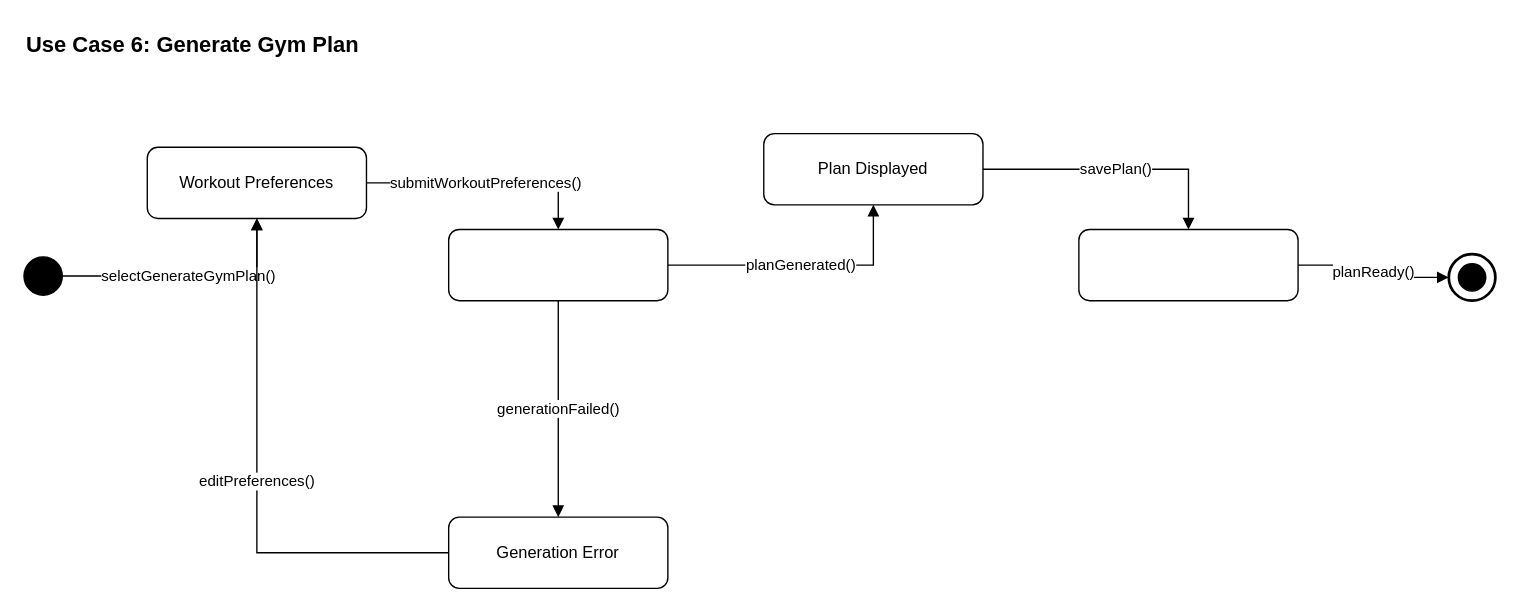
Some shapes in this 1521 by 612 pixel diagram are drawn without their labels. Here are the shapes that lost their labels. From the top down, the centre of each, then its label:
the point at 557,264: Generating Plan
the point at 1188,264: Plan Saved
